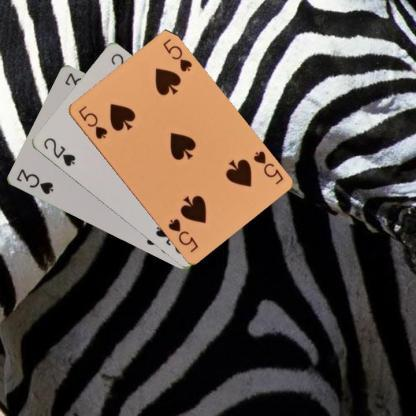2s: (40, 134, 77, 168)
3s: (13, 166, 55, 196)
5s: (75, 102, 109, 140), (250, 148, 284, 186)
